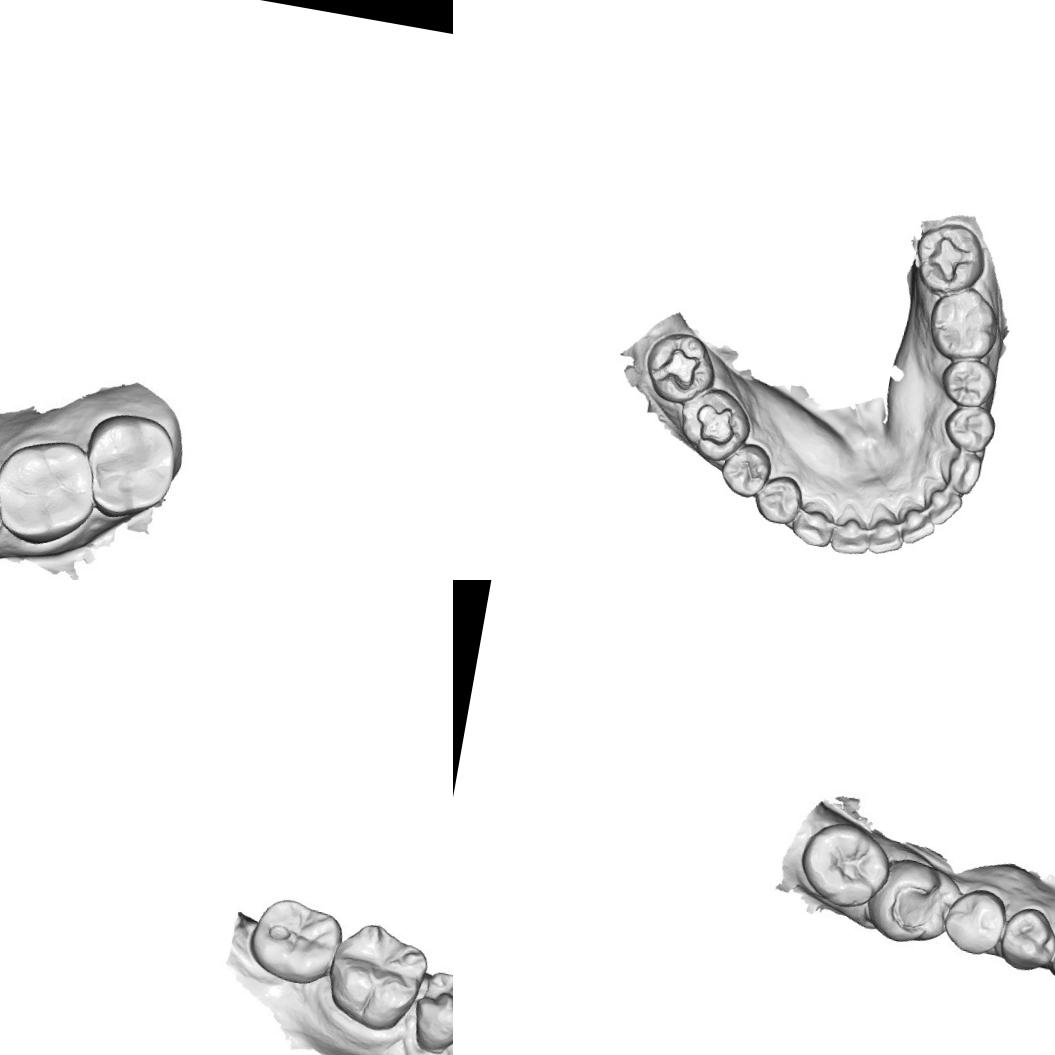canine: (930, 445, 984, 496), (787, 496, 837, 550)
incisor: (859, 498, 909, 559), (914, 474, 966, 530), (828, 499, 875, 558), (890, 494, 940, 548)
inlay: (646, 340, 706, 398), (918, 232, 978, 288), (688, 398, 740, 450)
molar: (75, 404, 183, 524), (322, 916, 429, 1036), (0, 431, 100, 551), (246, 886, 342, 982), (798, 810, 894, 906), (872, 856, 960, 949), (922, 282, 1003, 366)
premolar: (939, 882, 1011, 956), (993, 904, 1055, 974), (409, 967, 453, 1055), (716, 436, 774, 501), (936, 354, 999, 410), (750, 468, 808, 528), (938, 401, 999, 456)
